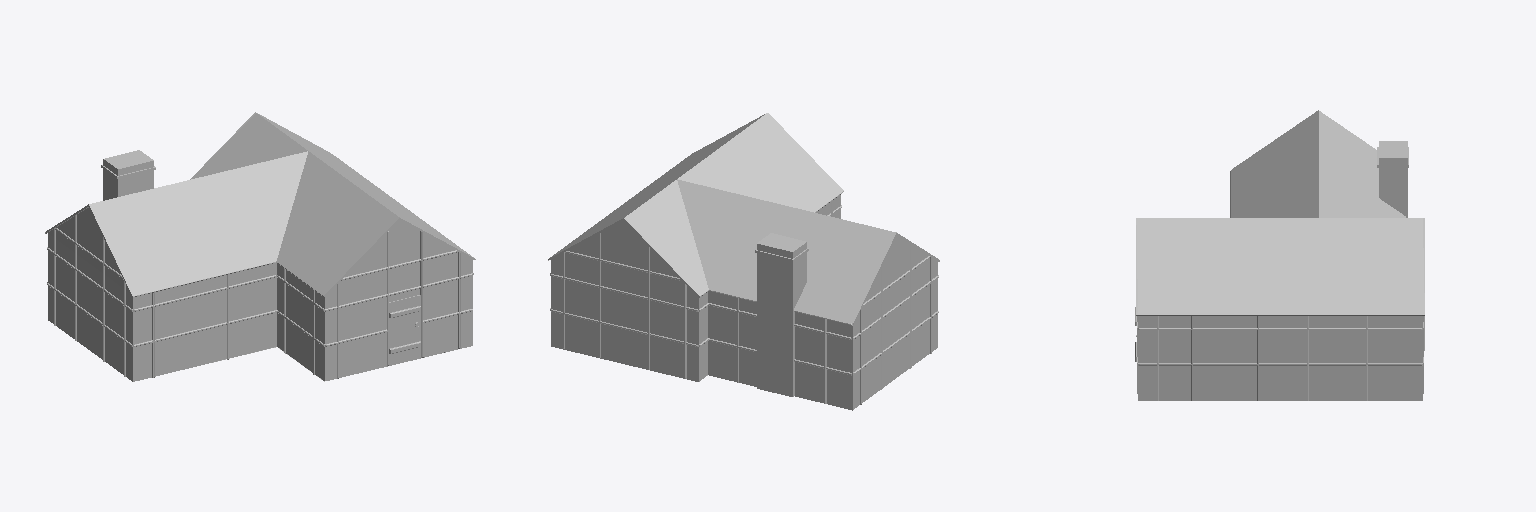
The model's file is VillagerHouseLargeDoubleRoom.obj.
3 renders of one model, left to right at view 1: azimuth 30°, elevation 25°; view 2: azimuth 150°, elevation 25°; view 3: azimuth 270°, elevation 25°, orthographic.
Parts seen in each view (by area): view 1: House4_polySurface10, House4_polySurface10 pCube10 Door2; view 2: House4_polySurface10; view 3: House4_polySurface10.
Boxes of the visible parts, <box> form: House4_polySurface10: <box>45,112,475,381</box>; House4_polySurface10 pCube10 Door2: <box>389,295,420,365</box>; House4_polySurface10: <box>548,113,939,410</box>; House4_polySurface10: <box>1136,110,1424,400</box>.
Bounding box in the file's own units: 69.09 × 32.83 × 58.55.